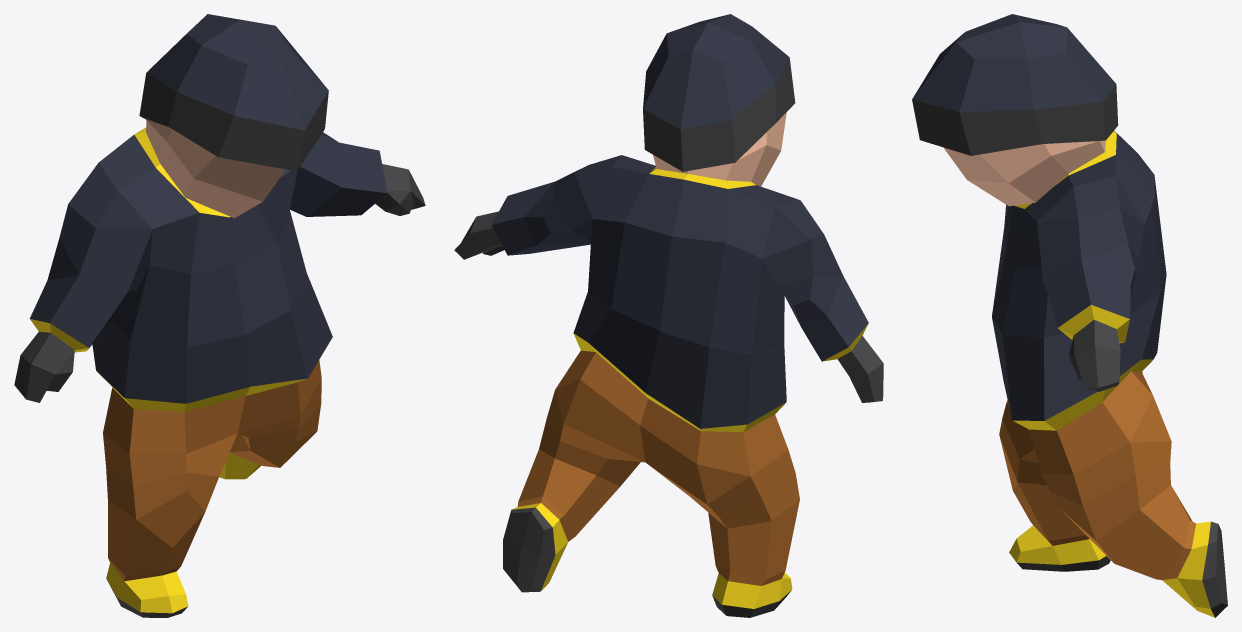
File: AutumnBaby.002.glb
3 renders of one model, left to right at view 1: azimuth 30°, elevation 25°; view 2: azimuth 150°, elevation 25°; view 3: azimuth 270°, elevation 25°, orthographic. The views are drawn at different scales.
Parts seen in each view (by area): view 1: AutumnBaby.002; view 2: AutumnBaby.002; view 3: AutumnBaby.002.
Boxes of the visible parts, left/top/right/bottom form: AutumnBaby.002: left=14, top=14, right=425, bottom=617; AutumnBaby.002: left=454, top=14, right=883, bottom=617; AutumnBaby.002: left=912, top=14, right=1227, bottom=617.
Bounding box in the file's own units: 0.4614 × 0.6061 × 0.3009.
Materials: 1 (1 with a texture image).
